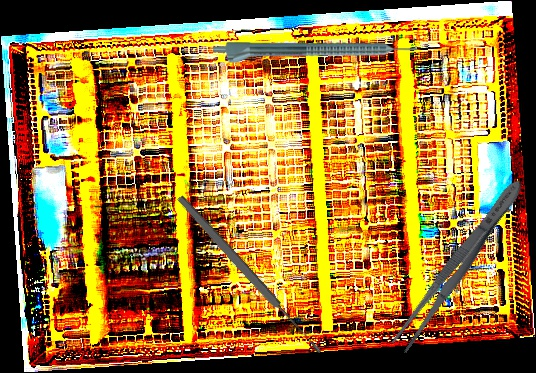Dressing Forceps: (387, 174, 531, 356)
Handpiece: (213, 42, 417, 65)
Surgical Spoon: (175, 193, 324, 357)
